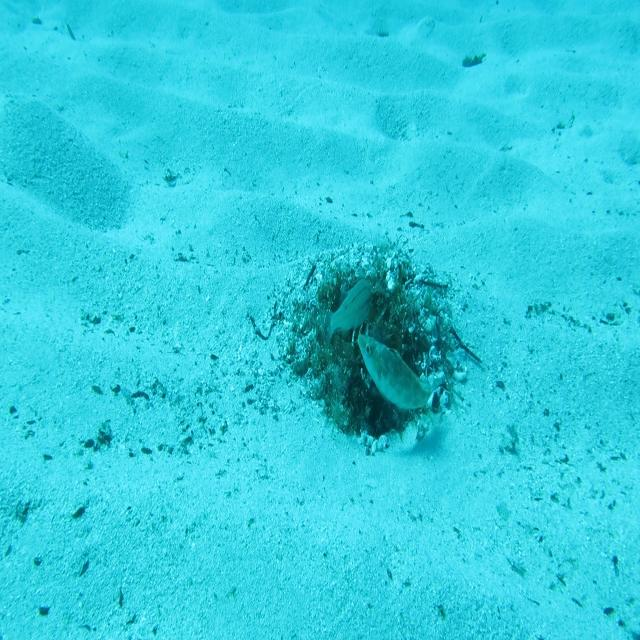BEND: (356, 332, 444, 416)
female: (318, 276, 377, 350)
nest: (253, 211, 468, 465)
vegetation: (461, 52, 486, 71)
